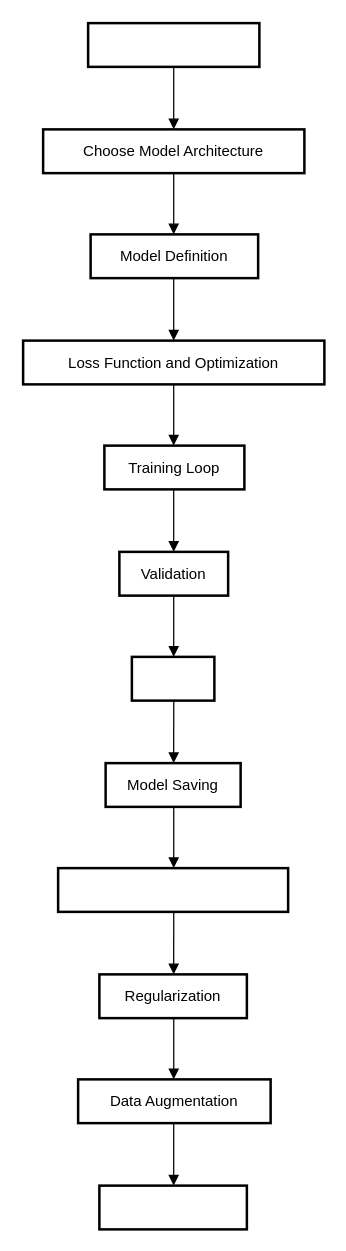
This 346x1251 diagram has some shape labels left out. Here are the shapes that lost their labels. From the top down, the centre of each, then its label:
At pixel 173 44: "Data Preparation".
At pixel 172 678: "Testing".
At pixel 172 889: "Hyperparameter Tuning".
At pixel 173 1207: "Early Stopping".
